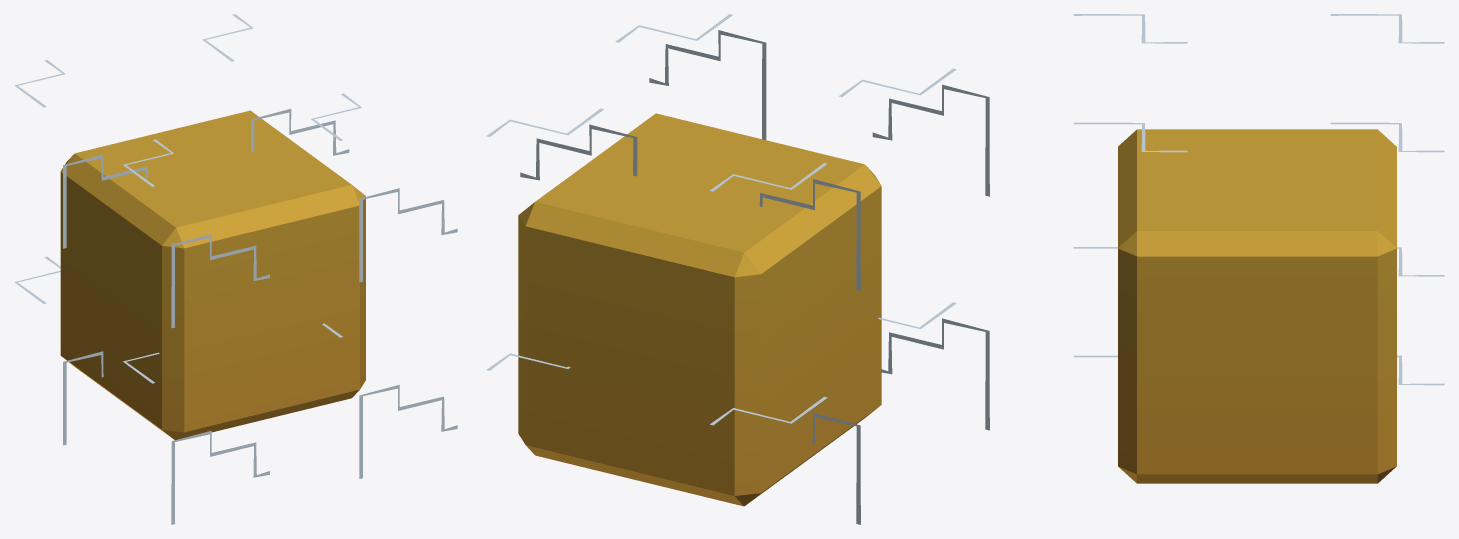
File: Zhongli_PlanetBefall_MeteorGoldVeins.fbx
3 renders of one model, left to right at view 1: azimuth 30°, elevation 25°; view 2: azimuth 150°, elevation 25°; view 3: azimuth 270°, elevation 25°, orthographic. The views are drawn at different scales.
Parts seen in each view (by area): view 1: PART_MeteorVisibleAmberInterior, PART_AuthoredMeteorAngularVein_4, PART_AuthoredMeteorAngularVein_1, PART_AuthoredMeteorAngularVein_5, PART_AuthoredMeteorAngularVein_0, PART_AuthoredMeteorAngularVein_3, PART_AuthoredMeteorAngularVein_7, PART_AuthoredMeteorAngularVein_2; view 2: PART_MeteorVisibleAmberInterior, PART_AuthoredMeteorAngularVein_5, PART_AuthoredMeteorAngularVein_1, PART_AuthoredMeteorAngularVein_0, PART_AuthoredMeteorAngularVein_3, PART_AuthoredMeteorAngularVein_7, PART_AuthoredMeteorAngularVein_2; view 3: PART_MeteorVisibleAmberInterior.
Part boxes in pixels (x1,y1,x2,y2): PART_MeteorVisibleAmberInterior: (60, 110, 365, 440); PART_AuthoredMeteorAngularVein_4: (359, 385, 457, 478); PART_AuthoredMeteorAngularVein_1: (171, 234, 269, 328); PART_AuthoredMeteorAngularVein_5: (359, 188, 457, 282); PART_AuthoredMeteorAngularVein_0: (171, 430, 269, 524); PART_AuthoredMeteorAngularVein_3: (63, 154, 147, 248); PART_AuthoredMeteorAngularVein_7: (251, 109, 349, 155); PART_AuthoredMeteorAngularVein_2: (63, 351, 103, 445); PART_MeteorVisibleAmberInterior: (518, 113, 881, 506); PART_AuthoredMeteorAngularVein_5: (649, 30, 766, 139); PART_AuthoredMeteorAngularVein_1: (872, 84, 989, 196); PART_AuthoredMeteorAngularVein_0: (881, 318, 989, 430); PART_AuthoredMeteorAngularVein_3: (759, 179, 860, 290); PART_AuthoredMeteorAngularVein_7: (520, 124, 637, 180); PART_AuthoredMeteorAngularVein_2: (812, 413, 860, 524); PART_MeteorVisibleAmberInterior: (1118, 129, 1396, 483).
Bounding box in the file's own units: 213 × 228 × 232.
